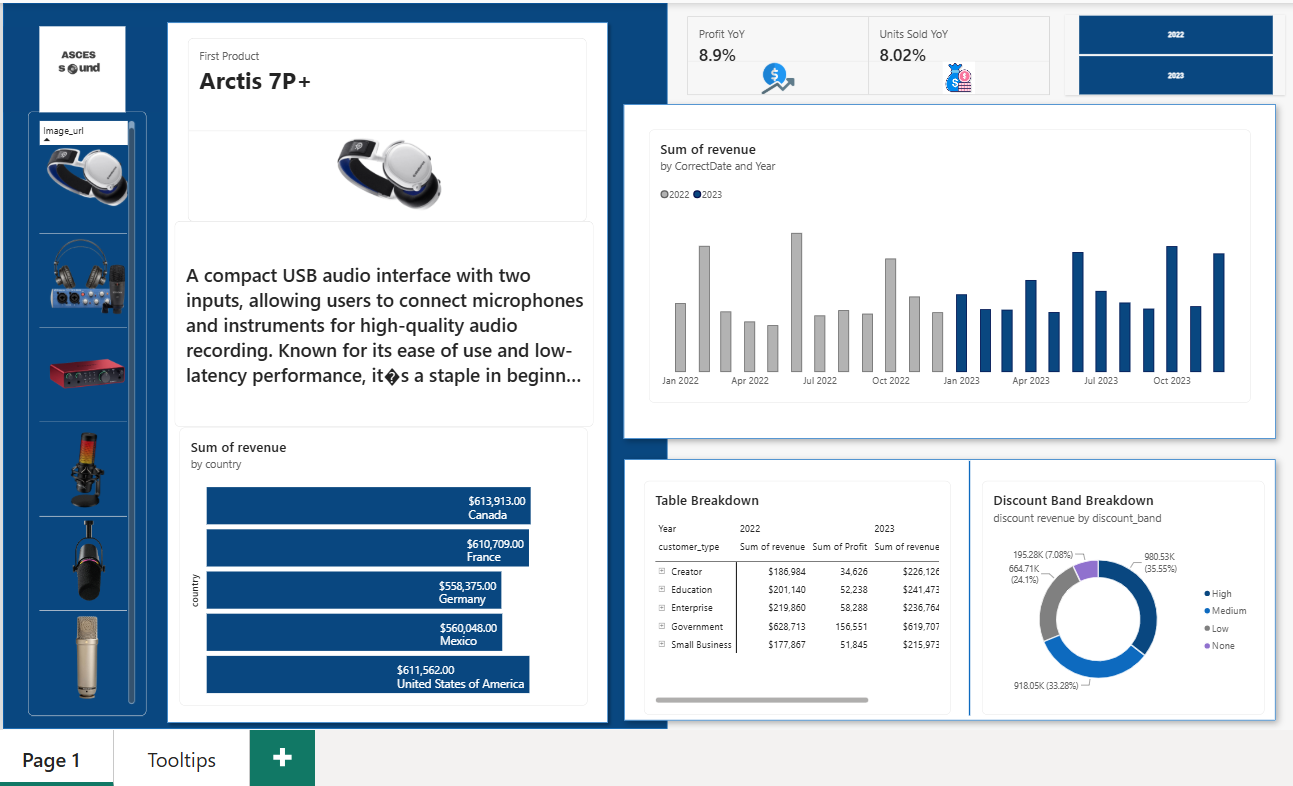

The dashboard page shown, as its layout file describes it:
{"tool":"powerbi","page":{"name":"Page 1","canvas":[1920,1080],"ordinal":0},"visuals":[{"type":"shape","box":[0,0,987.5,1078.8],"z":0},{"type":"shape","box":[235.1,19.8,673.1,1059.2],"z":1000},{"type":"shape","box":[908,136,998,526],"z":2000},{"type":"shape","box":[908,662,998,418],"z":3000},{"type":"tableEx","fields":{"Values":["Query.Image_url"]},"box":[37.1,160.9,175.7,898.3],"z":4000},{"type":"cardVisual","fields":{"Data":["Min(Query.Product)"]},"box":[274,52,593.3,273.3],"z":5000},{"type":"cardVisual","fields":{"Data":["Min(Query.Description)"]},"box":[254,324,623.3,306.7],"z":6000},{"type":"barChart","fields":{"Category":["Query.country"],"Y":["Sum(Query.revenue)"]},"box":[262,630,606.7,413.3],"z":7000},{"type":"columnChart","fields":{"Category":["Query.CorrectDate"],"Series":["Query.Year"],"Y":["Sum(Query.revenue)"]},"box":[960,188,894,406],"z":8000},{"type":"donutChart","title":"Discount Band Breakdown","fields":{"Category":["Query.discount_band"],"Y":["Sum(Query.discoun_revenue)"]},"box":[1456,710,420,348],"z":9000},{"type":"pivotTable","title":"Table Breakdown","fields":{"Columns":["Query.Year"],"Rows":["Query.customer_type","Query.Product"],"Values":["Sum(Query.revenue)","Sum(Query.Profit)"]},"box":[952,710,456,348],"z":10000},{"type":"shape","box":[1341.3,680.5,190.5,378.6],"z":11000},{"type":"slicer","fields":{"Values":["Query.Year"]},"box":[533.5,33.5,374.3,83.8],"z":12000},{"type":"cardVisual","fields":{"Data":["Query.Profit YoY","Query.Units_sold YoY","Query.Profit YoY"]},"box":[1018,20,888,116],"z":13000},{"type":"image","box":[0,34,236,128],"z":14000}]}

Visuals, with their boxes on the page's 1920x1080 design canvas (x1, y1, x2, y2). These are canvas units, not pixel positions in the 1293x786 screenshot, which may show the page scaled, cropped or inside an application window:
shape: l=0, t=0, r=988, b=1079
shape: l=235, t=20, r=908, b=1079
shape: l=908, t=136, r=1906, b=662
shape: l=908, t=662, r=1906, b=1080
tableEx - Query.Image_url: l=37, t=161, r=213, b=1059
cardVisual - Min(Query.Product): l=274, t=52, r=867, b=325
cardVisual - Min(Query.Description): l=254, t=324, r=877, b=631
barChart - Query.country x Sum(Query.revenue): l=262, t=630, r=869, b=1043
columnChart - Query.CorrectDate x Query.Year: l=960, t=188, r=1854, b=594
"Discount Band Breakdown" donutChart: l=1456, t=710, r=1876, b=1058
"Table Breakdown" pivotTable: l=952, t=710, r=1408, b=1058
shape: l=1341, t=680, r=1532, b=1059
slicer - Query.Year: l=534, t=34, r=908, b=117
cardVisual - Query.Profit YoY x Query.Units_sold YoY: l=1018, t=20, r=1906, b=136
image: l=0, t=34, r=236, b=162
